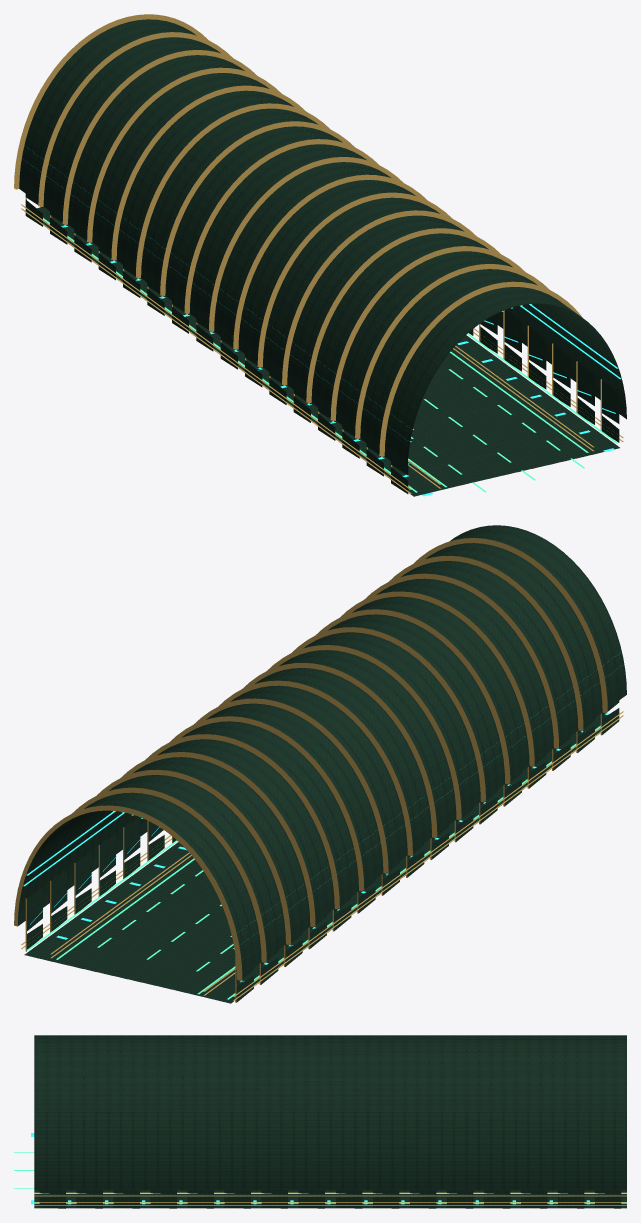
The model's file is chronospine_tunnel.glb.
3 renders of one model, top to bottom at view 1: azimuth 30°, elevation 25°; view 2: azimuth 150°, elevation 25°; view 3: azimuth 270°, elevation 25°, orthographic. The views are drawn at different scales.
Visible parts, largest first — view 1: CUSTOM_CURVED_ROADWAY_SHELL, GOLD_CNC_ARCH_SUPPORTS, CONDUCTIVE_AUTHORED_ROAD_PLATES, GREEN_VELOCITY_VECTOR_RAILS, BLUE_TEMPORAL_COILS_AND_WIRING; view 2: CUSTOM_CURVED_ROADWAY_SHELL, GOLD_CNC_ARCH_SUPPORTS, CONDUCTIVE_AUTHORED_ROAD_PLATES, GREEN_VELOCITY_VECTOR_RAILS, BLUE_TEMPORAL_COILS_AND_WIRING; view 3: CUSTOM_CURVED_ROADWAY_SHELL, CONDUCTIVE_AUTHORED_ROAD_PLATES, GOLD_CNC_ARCH_SUPPORTS, GREEN_VELOCITY_VECTOR_RAILS.
Boxes of the visible parts, box(x1,y1,x2,y2) form: CUSTOM_CURVED_ROADWAY_SHELL: box(19, 19, 626, 493); GOLD_CNC_ARCH_SUPPORTS: box(14, 14, 623, 493); CONDUCTIVE_AUTHORED_ROAD_PLATES: box(37, 206, 619, 496); GREEN_VELOCITY_VECTOR_RAILS: box(43, 218, 617, 492); BLUE_TEMPORAL_COILS_AND_WIRING: box(61, 225, 621, 496); CUSTOM_CURVED_ROADWAY_SHELL: box(17, 525, 626, 1002); GOLD_CNC_ARCH_SUPPORTS: box(14, 538, 623, 1002); CONDUCTIVE_AUTHORED_ROAD_PLATES: box(24, 714, 607, 1003); GREEN_VELOCITY_VECTOR_RAILS: box(26, 725, 600, 999); BLUE_TEMPORAL_COILS_AND_WIRING: box(23, 713, 609, 982); CUSTOM_CURVED_ROADWAY_SHELL: box(34, 1035, 626, 1208); CONDUCTIVE_AUTHORED_ROAD_PLATES: box(34, 1190, 626, 1208); GOLD_CNC_ARCH_SUPPORTS: box(34, 1192, 626, 1205); GREEN_VELOCITY_VECTOR_RAILS: box(14, 1152, 626, 1203).
Bounding box in the file's own units: 10.76 × 7.75 × 33.1.
Materials: 6 (2 with a texture image).
